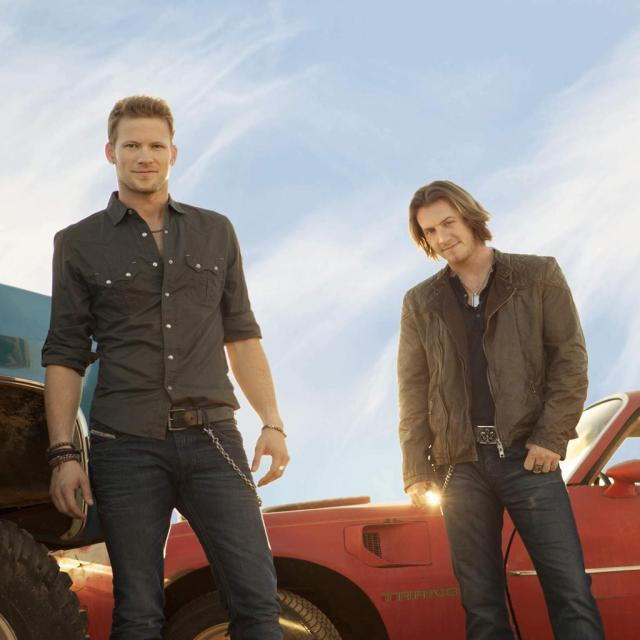Face: (104, 110, 178, 203), (409, 193, 474, 262)
